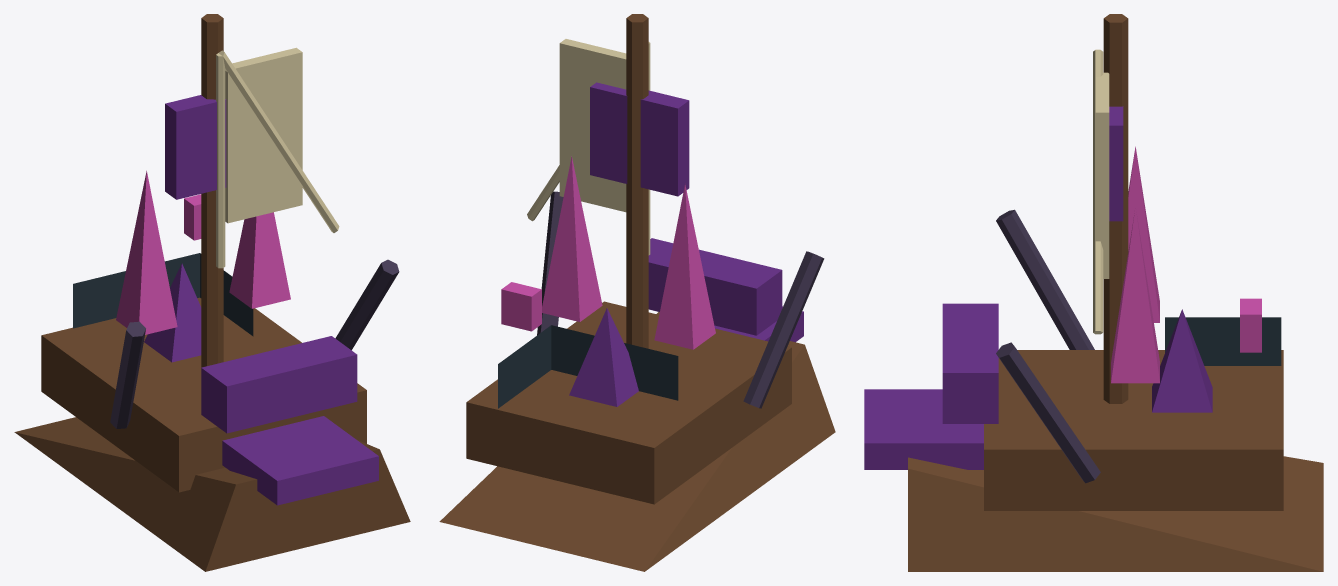
File: fishing-vessel.obj
3 views of the same model, side by side, from view 1: azimuth 30°, elevation 25°; view 2: azimuth 150°, elevation 25°; view 3: azimuth 270°, elevation 25° (orthographic). The views are drawn at different scales.
Visible parts, largest first — view 1: ship; view 2: ship; view 3: ship.
Part boxes in pixels (x1,y1,x2,y2): ship: (14,14,410,571); ship: (439,14,835,571); ship: (864,14,1323,571).
Size of the model in its own units: 1.39 by 2.24 by 1.87.
